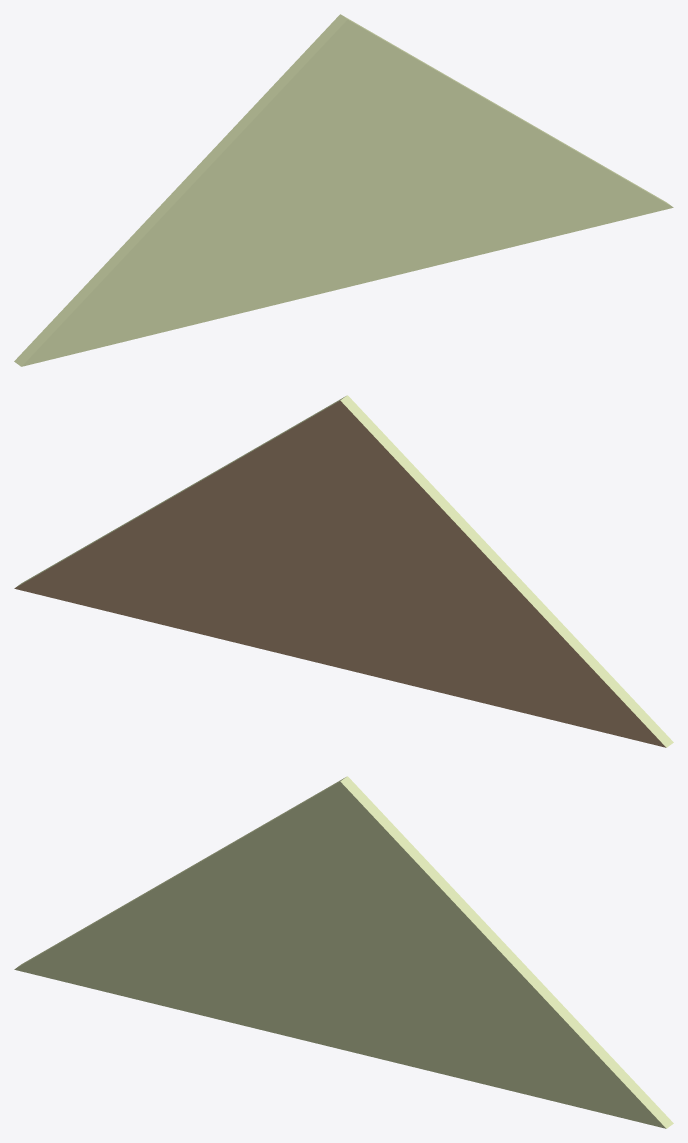
Rendered from Wall2_C5_18.fbx.
The picture shows the model from 3 angles, top to bottom: view 1: azimuth 30°, elevation 25°; view 2: azimuth 150°, elevation 25°; view 3: azimuth 330°, elevation 25°; orthographic projection.
Parts seen in each view (by area): view 1: Wall2_C5_18; view 2: Wall2_C5_18; view 3: Wall2_C5_18.
Boxes of the visible parts, x1,y1,x2,y2 form: Wall2_C5_18: (14,14,673,366); Wall2_C5_18: (14,395,673,747); Wall2_C5_18: (14,776,673,1128).
Bounding box in the file's own units: 765 × 300 × 15.
